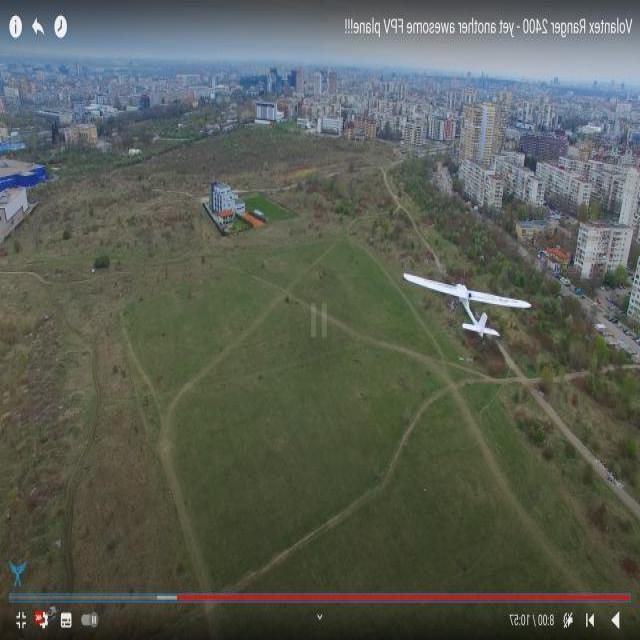iha: (384, 295, 516, 312)
